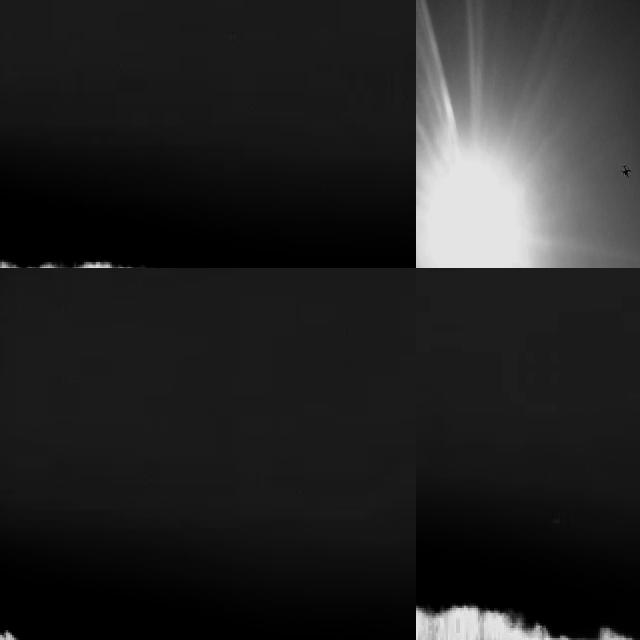0: (547, 506, 573, 542)
drone: (618, 155, 633, 181)
